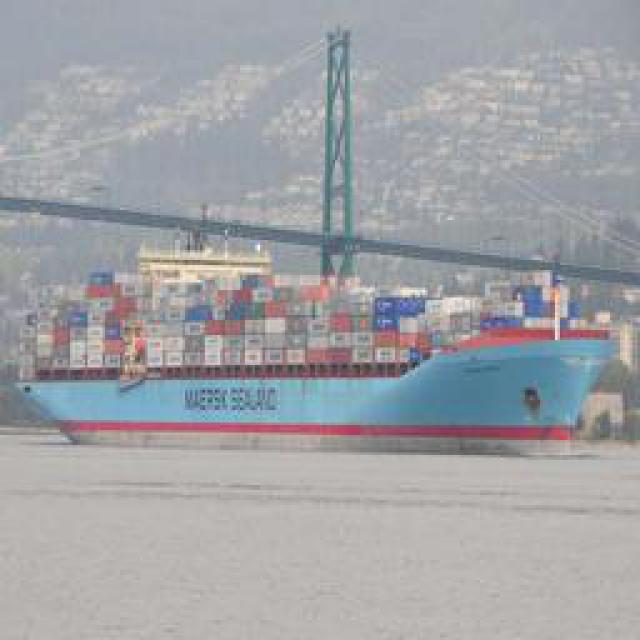Ship: (12, 200, 620, 445)
